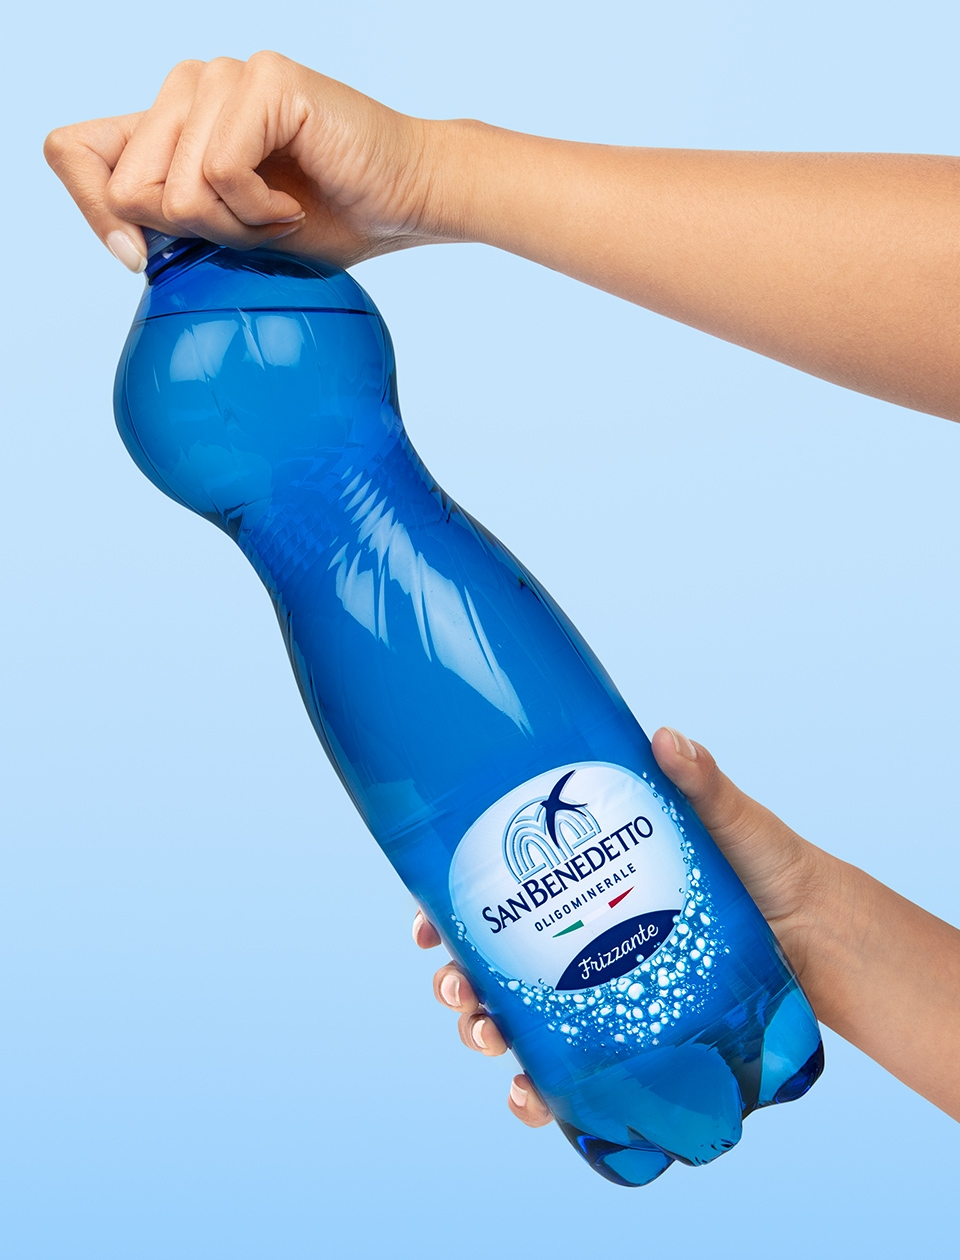PlasticBottle: (110, 200, 832, 1180)
